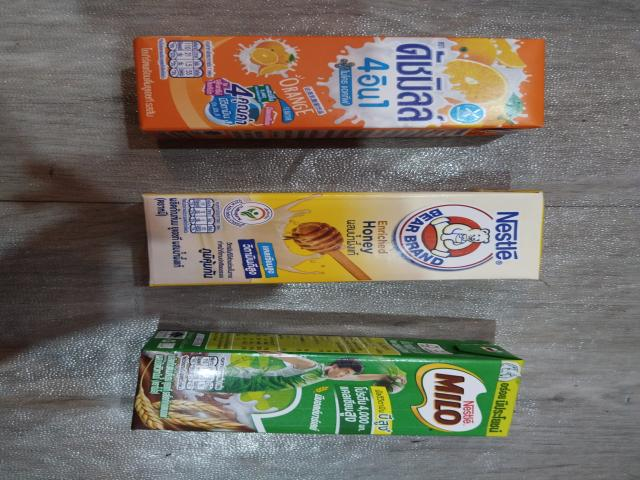drink_box: (118, 30, 555, 144), (132, 328, 549, 446), (118, 187, 550, 287)
